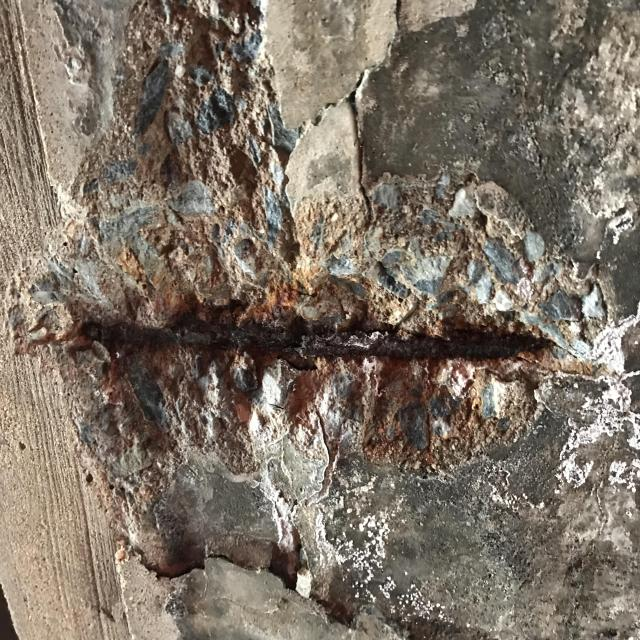Rebar: (12, 199, 554, 479)
concrete spalling: (65, 0, 289, 195)
